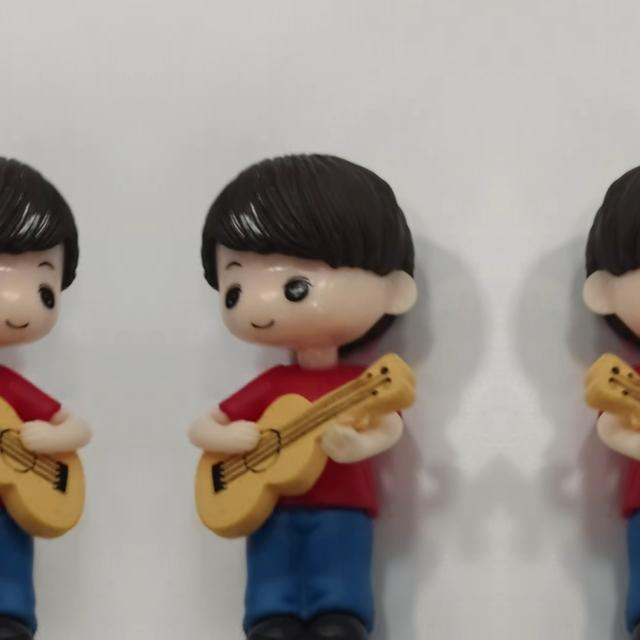man cloth: (218, 359, 408, 513), (0, 359, 61, 513), (592, 359, 640, 513)
man head: (198, 154, 426, 360), (0, 153, 81, 360), (574, 153, 640, 360)
trousers: (232, 514, 386, 638), (0, 514, 47, 637), (614, 514, 640, 637)
